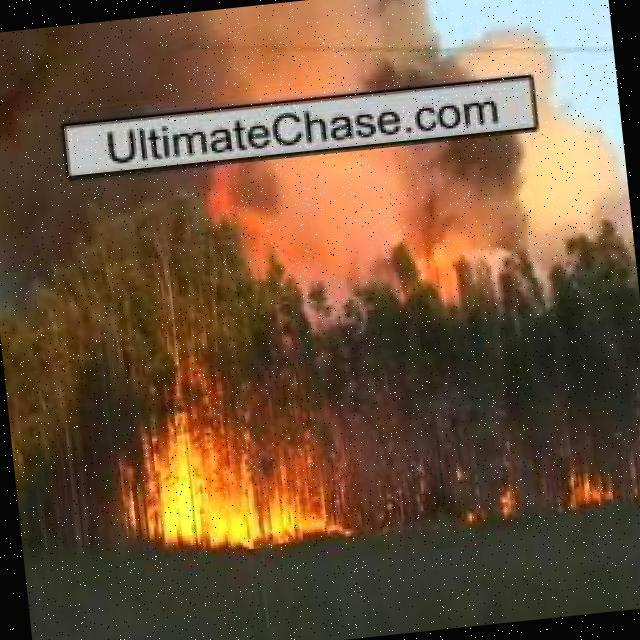Fire: (136, 441, 334, 551), (416, 244, 478, 301), (207, 177, 253, 250), (558, 468, 616, 510), (459, 490, 521, 523)
